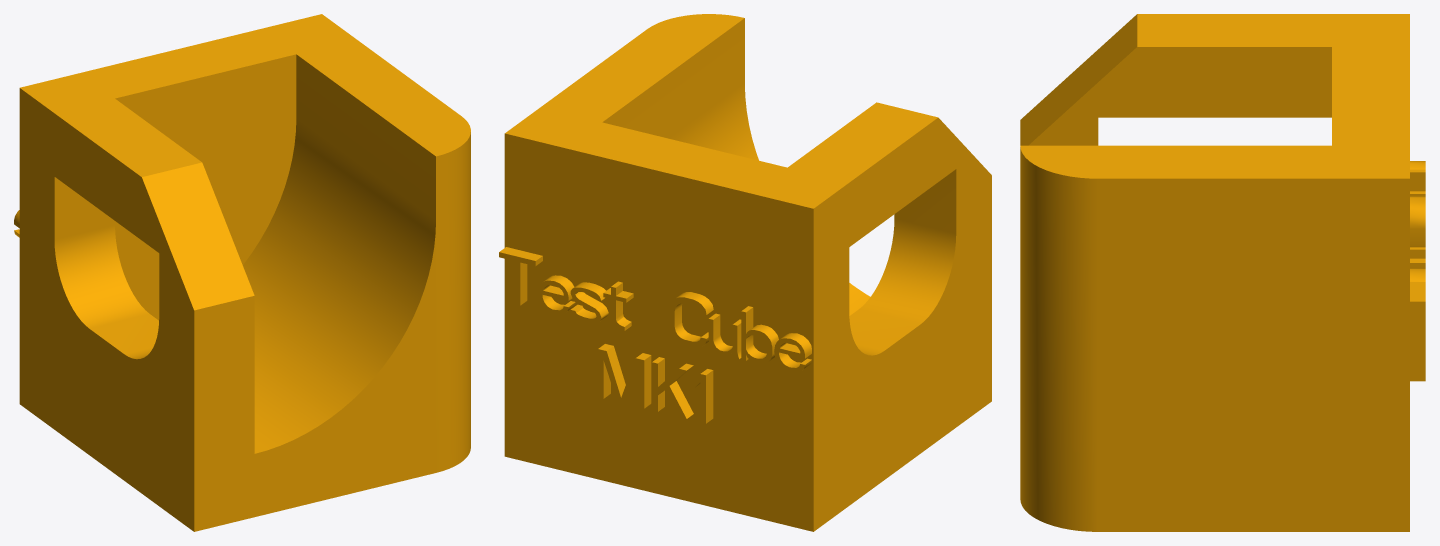
File: calibration-cube-mounted.glb
3 renders of one model, left to right at view 1: azimuth 30°, elevation 25°; view 2: azimuth 150°, elevation 25°; view 3: azimuth 270°, elevation 25°, orthographic. The views are drawn at different scales.
Size of the model in its own units: 0.025 by 0.025 by 0.026.
